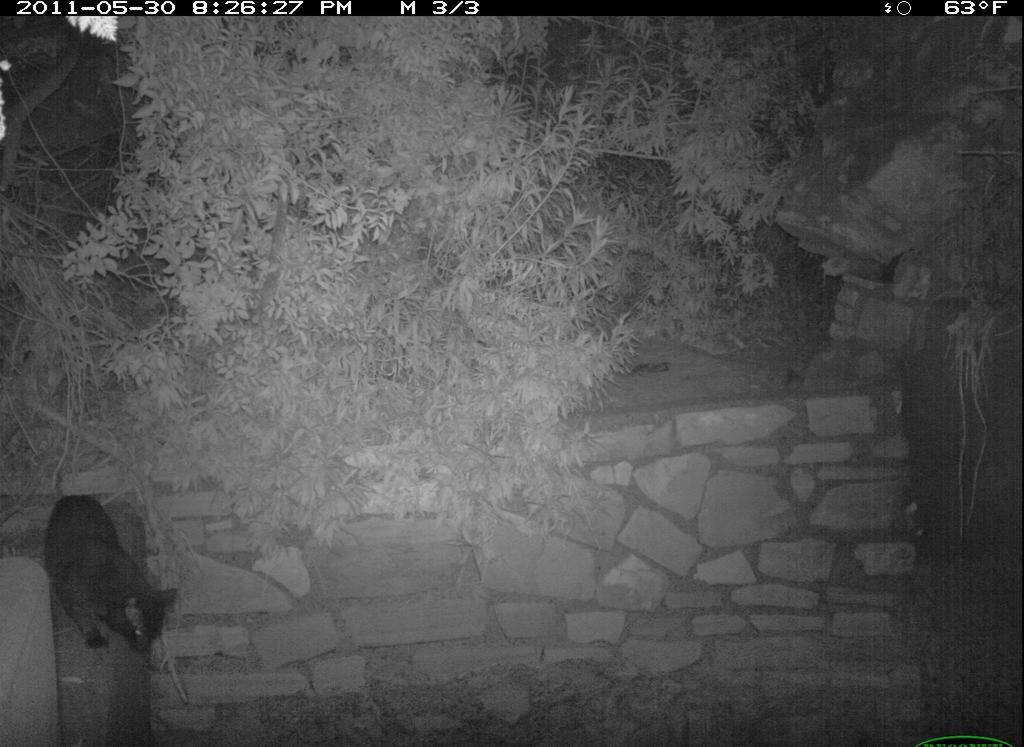cat: (30, 478, 181, 669)
